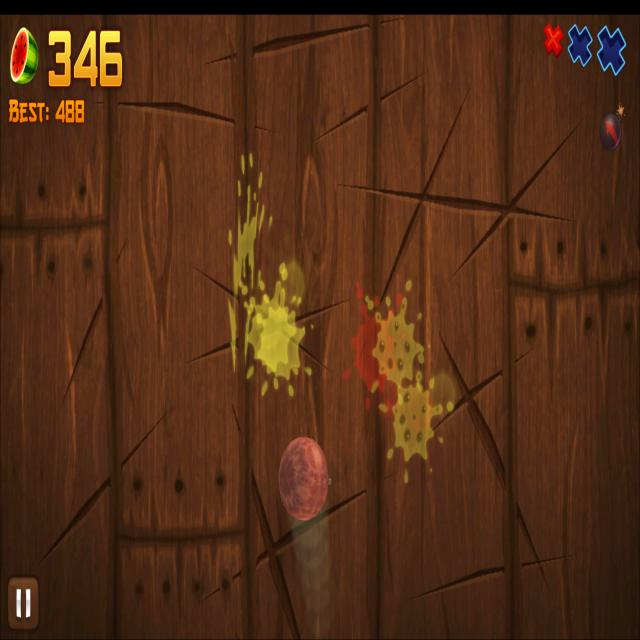fruit: (277, 438, 329, 521)
